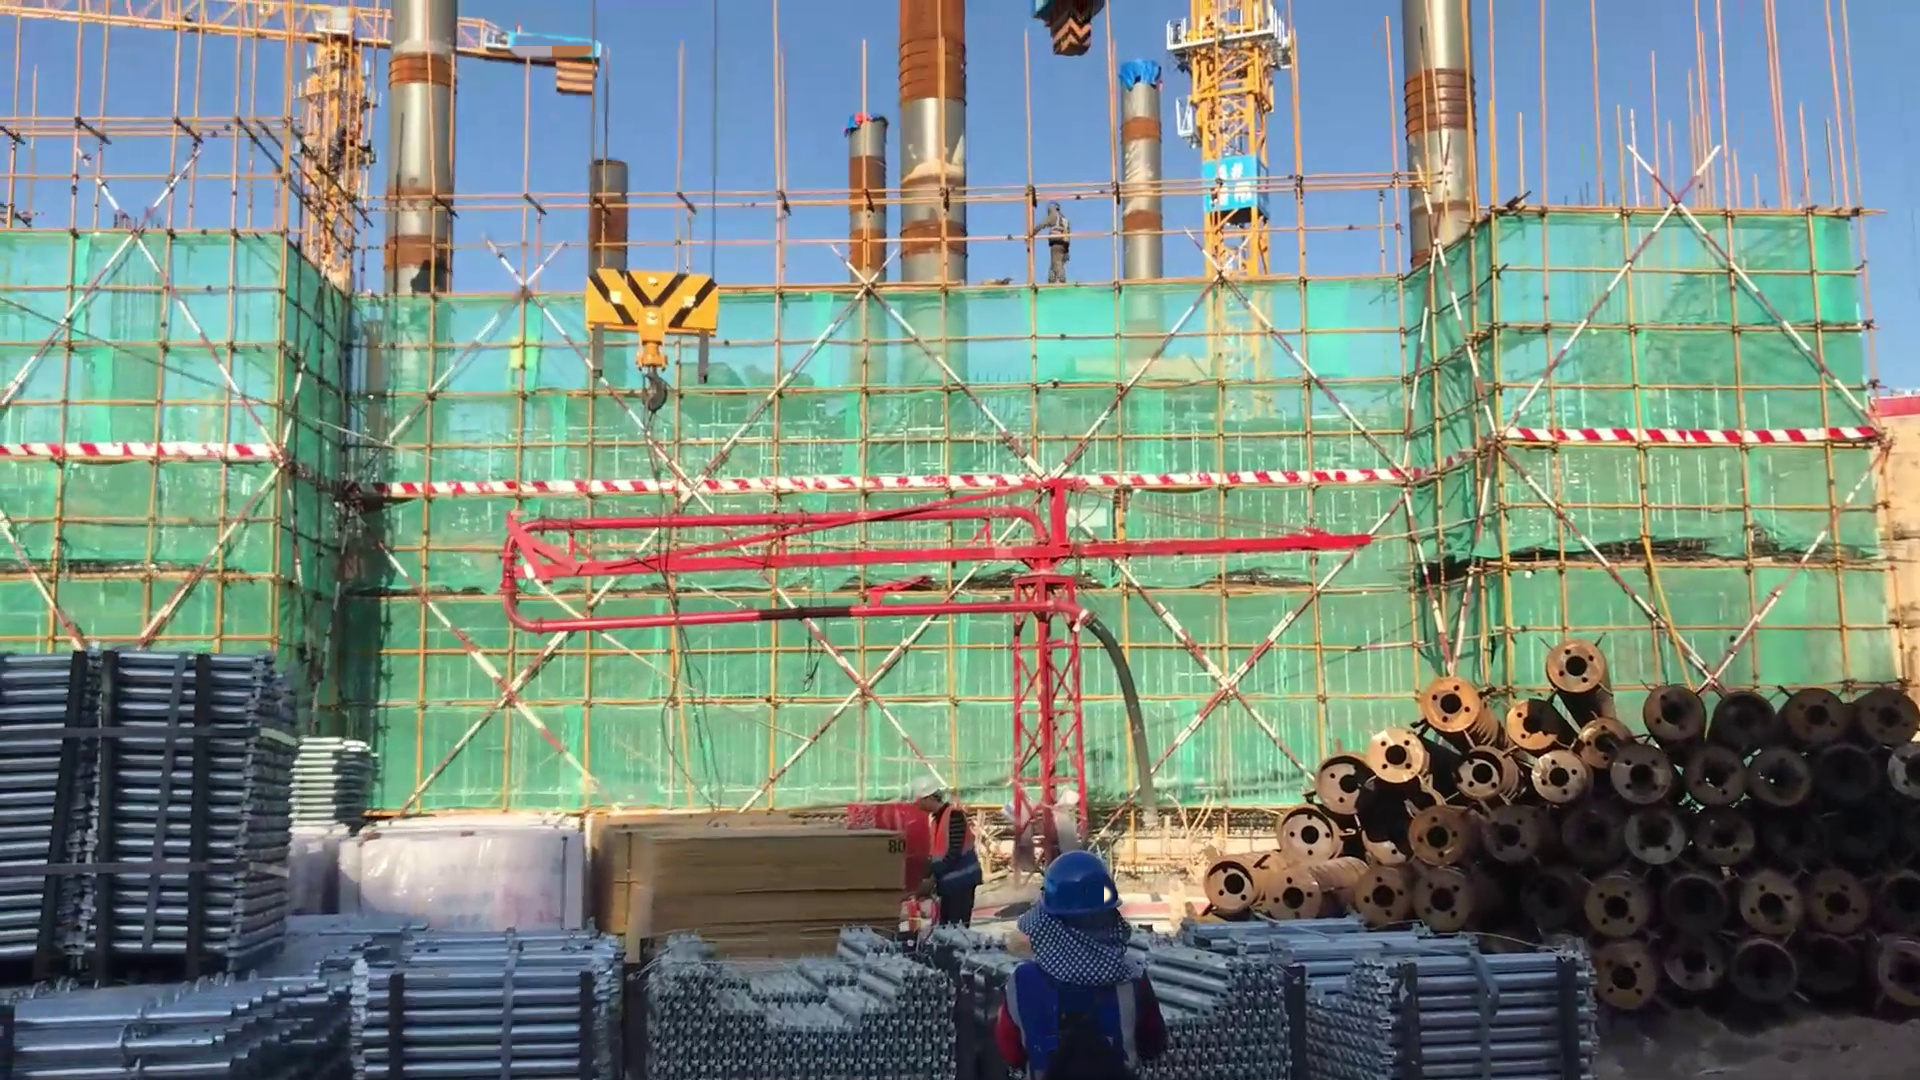board: (594, 815, 909, 970)
helmet: (1030, 856, 1128, 915), (908, 768, 940, 801)
hook: (584, 242, 720, 467)
person: (996, 852, 1164, 1079), (912, 775, 986, 941), (1028, 197, 1082, 294)
scaffold: (1, 645, 326, 1080), (344, 934, 975, 1080), (1129, 926, 1605, 1080)
slogan: (1200, 156, 1263, 216)
vest: (1001, 961, 1152, 1080), (928, 805, 983, 890), (1051, 211, 1073, 248)
